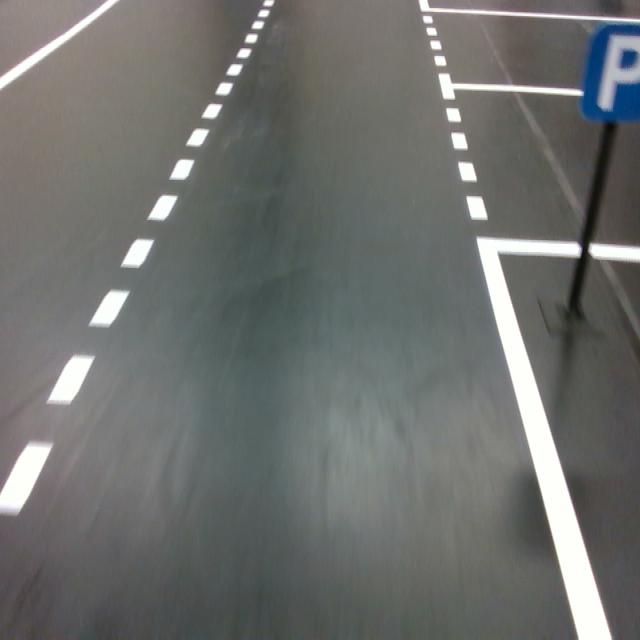parking-sign: (577, 22, 640, 124)
